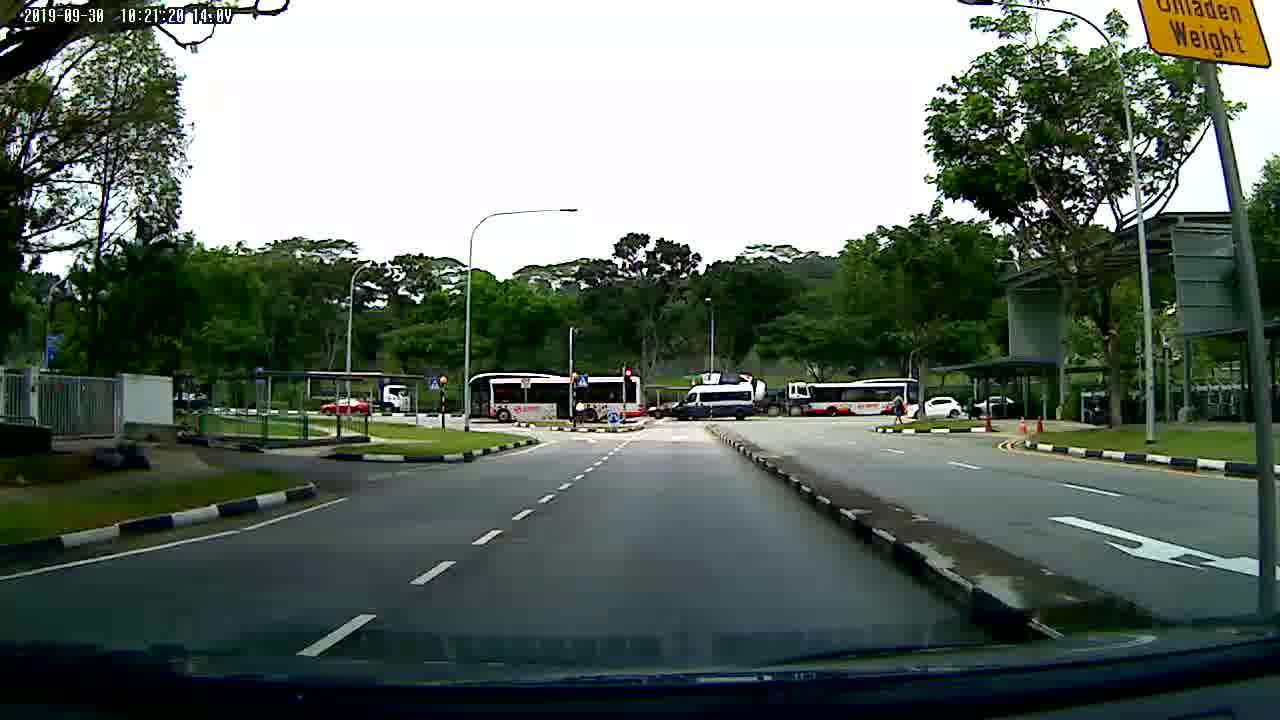bus: (465, 369, 648, 421), (816, 378, 914, 416)
car: (912, 396, 964, 420), (318, 398, 373, 414)
